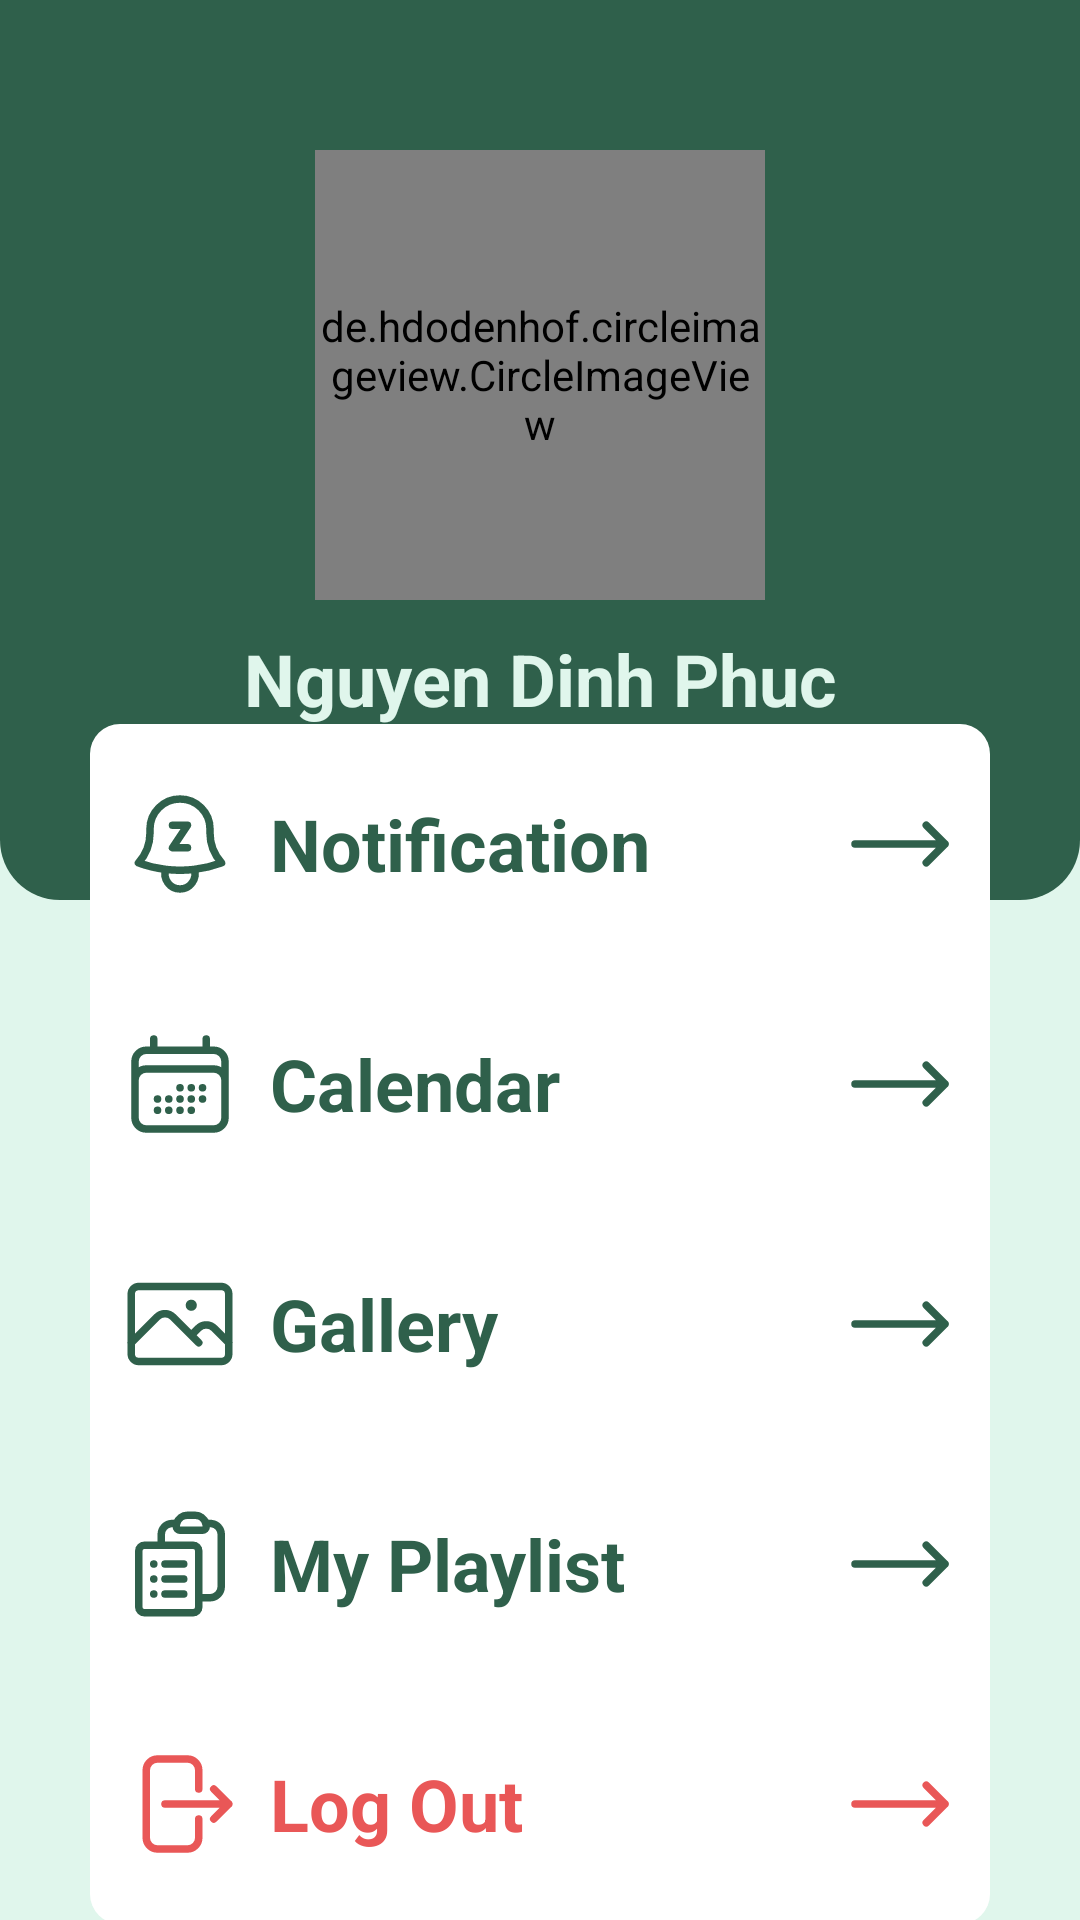

Named icons in this screenshot (1080×1920) and their centers, (x=x, y=y):
next: (x=900, y=844), (x=900, y=1084), (x=900, y=1324), (x=900, y=1564), (x=900, y=1804)
photo: (x=180, y=1324)
